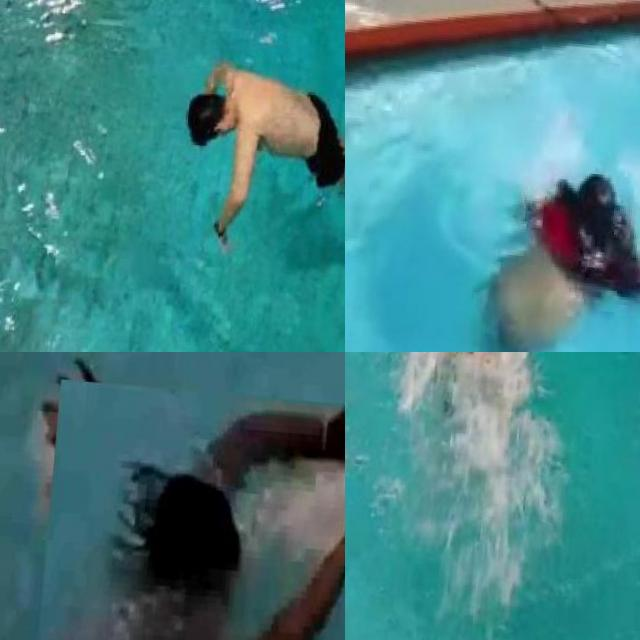drowning: (24, 380, 345, 640), (457, 142, 640, 352), (170, 47, 345, 261), (419, 352, 540, 436)
